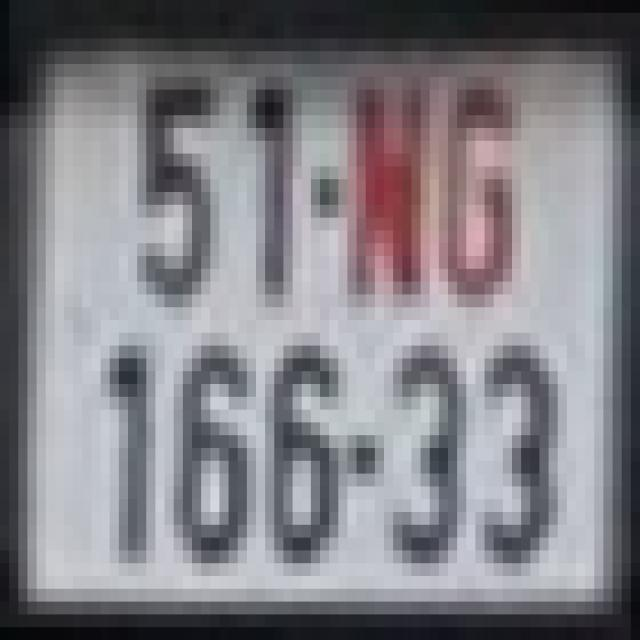1: (100, 346, 156, 563), (247, 77, 292, 307)
3: (475, 346, 558, 563), (393, 346, 466, 563)
5: (137, 77, 220, 294)
6: (174, 346, 247, 563), (265, 346, 338, 563), (448, 77, 512, 294)
N: (347, 64, 430, 307)
